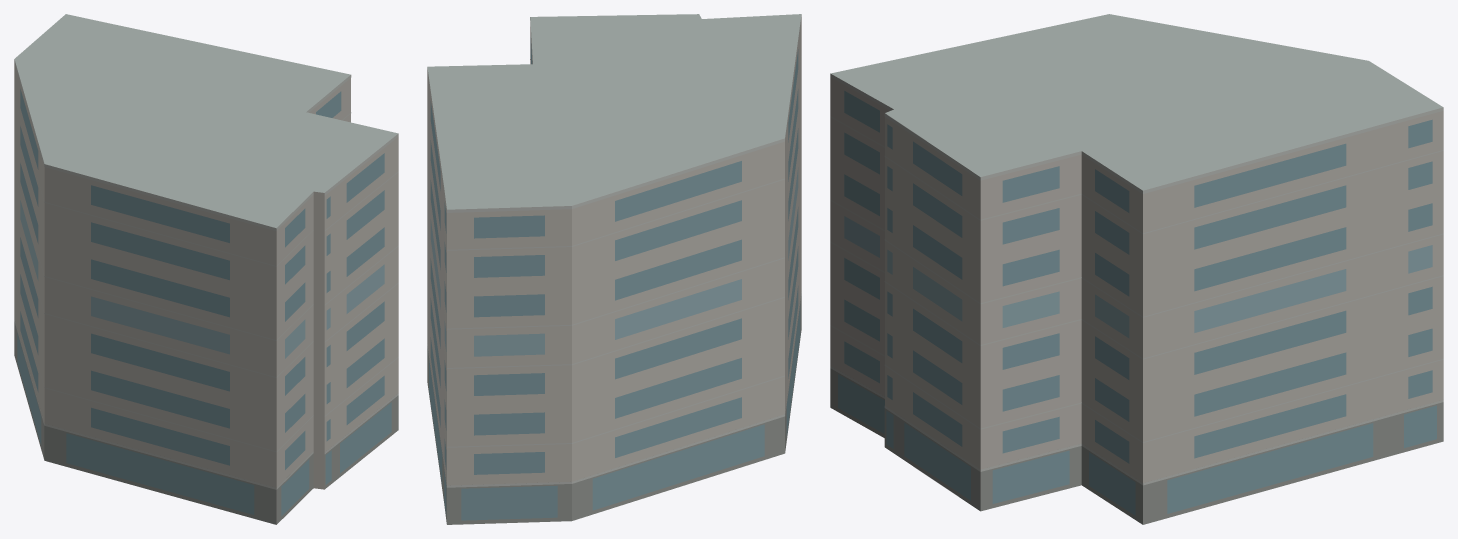
Rendered from survey-upis-32860490.glb.
3 renders of one model, left to right at view 1: azimuth 30°, elevation 25°; view 2: azimuth 150°, elevation 25°; view 3: azimuth 270°, elevation 25°, orthographic. The views are drawn at different scales.
Parts seen in each view (by area): view 1: survey-upis-32860490.tmp; view 2: survey-upis-32860490.tmp; view 3: survey-upis-32860490.tmp.
Boxes of the visible parts, <box> form: survey-upis-32860490.tmp: <box>14,14,398,524</box>; survey-upis-32860490.tmp: <box>427,14,801,524</box>; survey-upis-32860490.tmp: <box>830,14,1443,524</box>.
Size of the model in its own units: 26.73 by 23.54 by 39.17.
